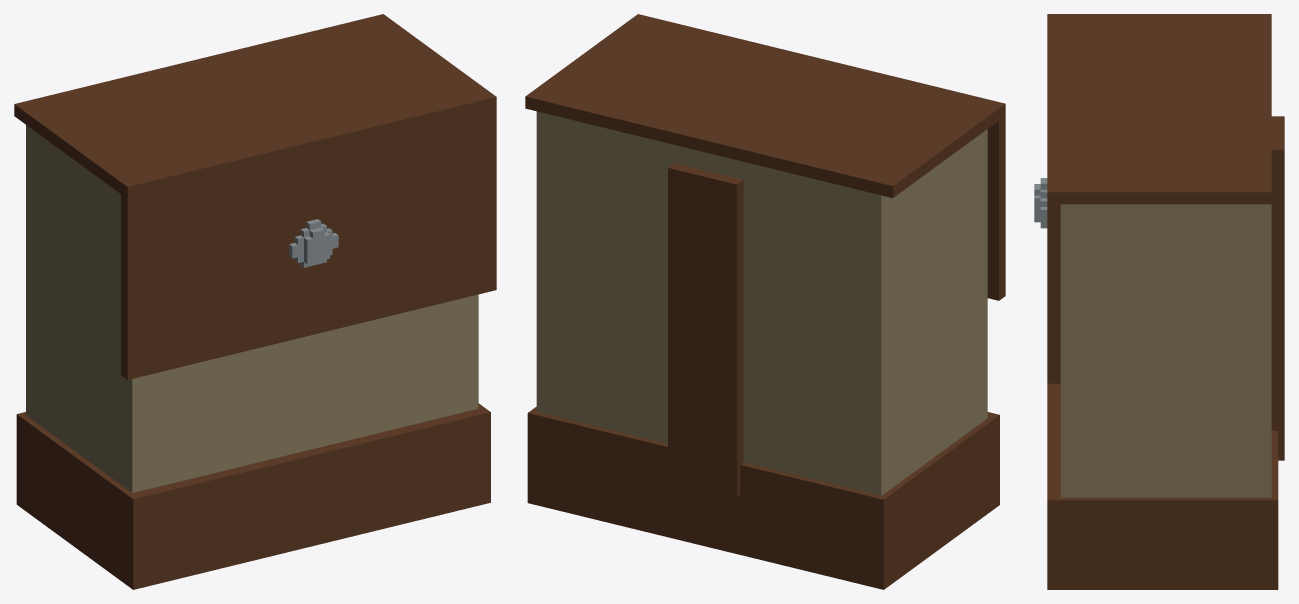
File: stone_pouch.glb
3 views of the same model, side by side, from view 1: azimuth 30°, elevation 25°; view 2: azimuth 150°, elevation 25°; view 3: azimuth 270°, elevation 25° (orthographic).
Visible parts, largest first — view 1: stone_pouch:compound; view 2: stone_pouch:compound; view 3: stone_pouch:compound.
Boxes of the visible parts, <box> form: stone_pouch:compound: <box>14,14,496,589</box>; stone_pouch:compound: <box>525,14,1005,589</box>; stone_pouch:compound: <box>1034,14,1284,589</box>.
Size of the model in its own units: 0.128 by 0.134 by 0.076.
